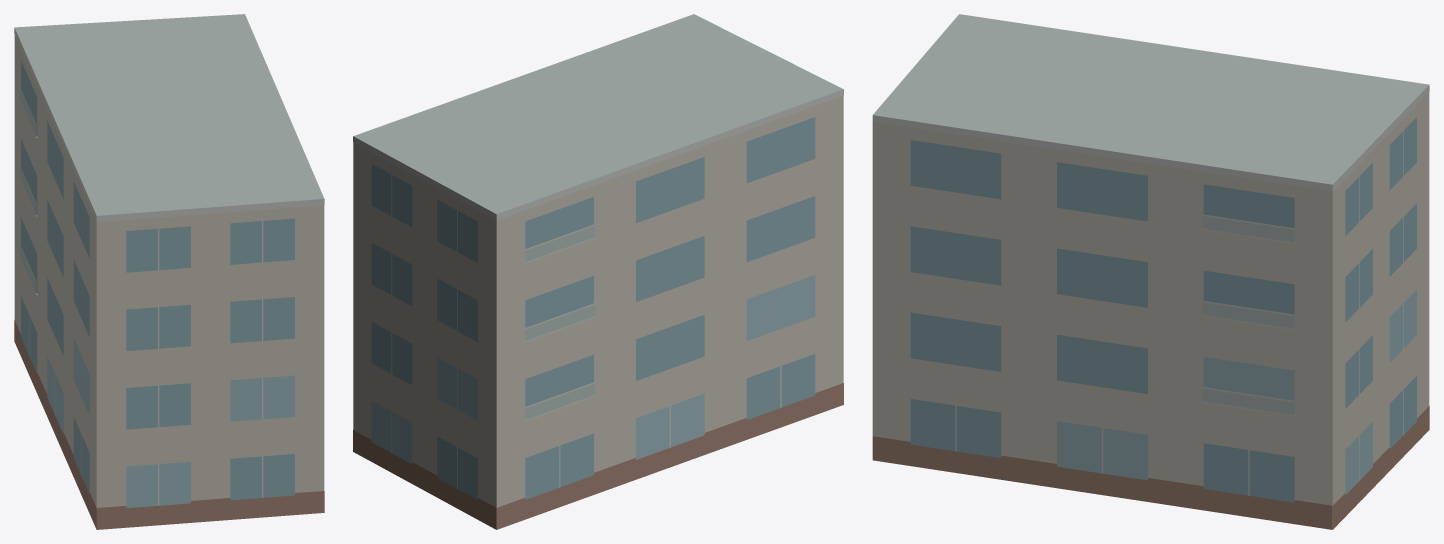
Rendered from survey-upis-32851043.glb.
The picture shows the model from 3 angles, left to right: view 1: azimuth 30°, elevation 25°; view 2: azimuth 150°, elevation 25°; view 3: azimuth 270°, elevation 25°; orthographic projection. The views are drawn at different scales.
Visible parts, largest first — view 1: survey-upis-32851043.tmp; view 2: survey-upis-32851043.tmp; view 3: survey-upis-32851043.tmp.
Part boxes in pixels (x1,y1,x2,y2): survey-upis-32851043.tmp: (14, 14, 324, 529); survey-upis-32851043.tmp: (353, 14, 843, 529); survey-upis-32851043.tmp: (872, 14, 1429, 529).
Bounding box in the file's own units: 12.95 × 12.2 × 17.85.
